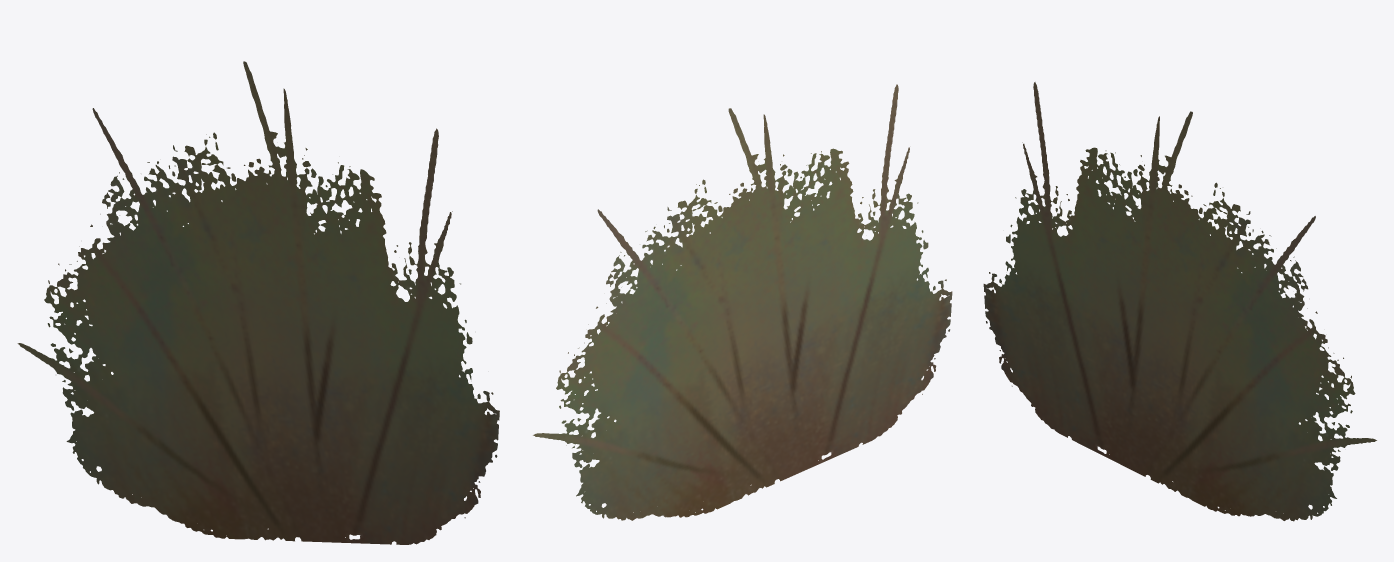
The model's file is bush1_004.fbx.
3 renders of one model, left to right at view 1: azimuth 90°, elevation 25°; view 2: azimuth 150°, elevation 25°; view 3: azimuth 270°, elevation 25°, orthographic. The views are drawn at different scales.
Visible parts, largest first — view 1: bush1.004; view 2: bush1.004; view 3: bush1.004.
Boxes of the visible parts, x1,y1,x2,y2 form: bush1.004: [17, 61, 499, 544]; bush1.004: [533, 84, 952, 520]; bush1.004: [983, 82, 1376, 521].
Size of the model in its own units: 218 by 452 by 342.
